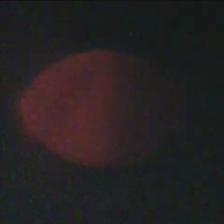fertile: (10, 42, 186, 170)
